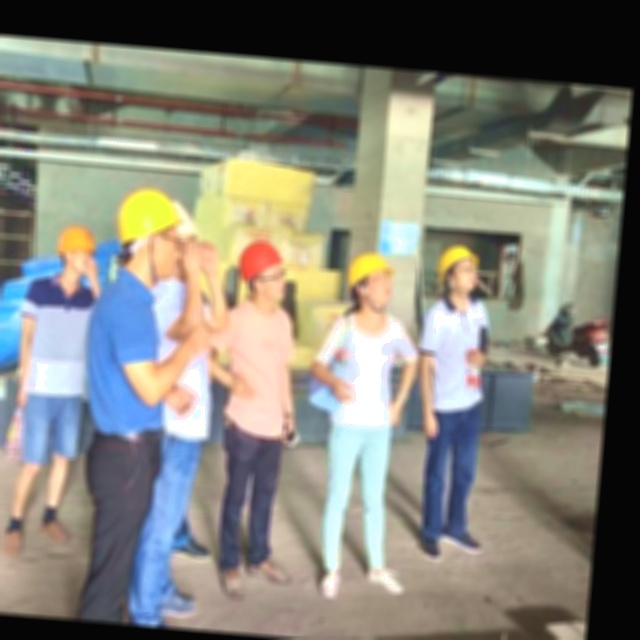Con_Casco: (237, 237, 291, 307), (346, 249, 397, 310), (435, 243, 479, 295)
Sin_Chaleco: (215, 301, 299, 436), (416, 291, 493, 416), (328, 309, 404, 429)
